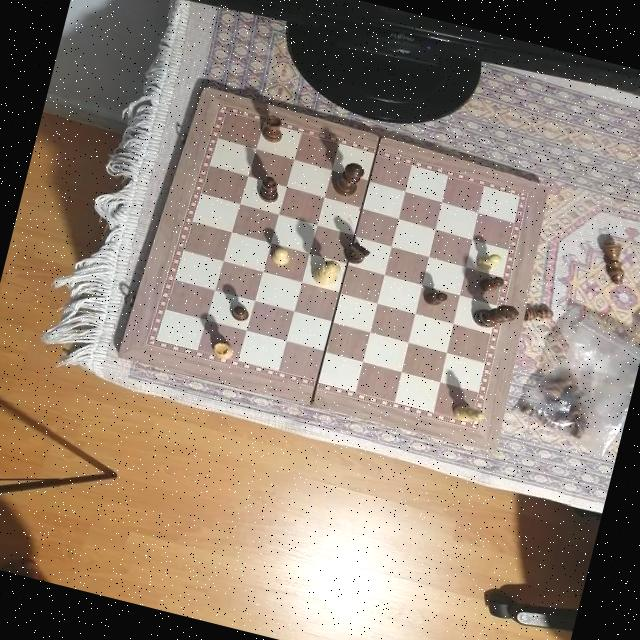corners: (532, 175, 558, 202), (109, 340, 135, 367), (484, 441, 506, 465), (196, 78, 219, 99)
